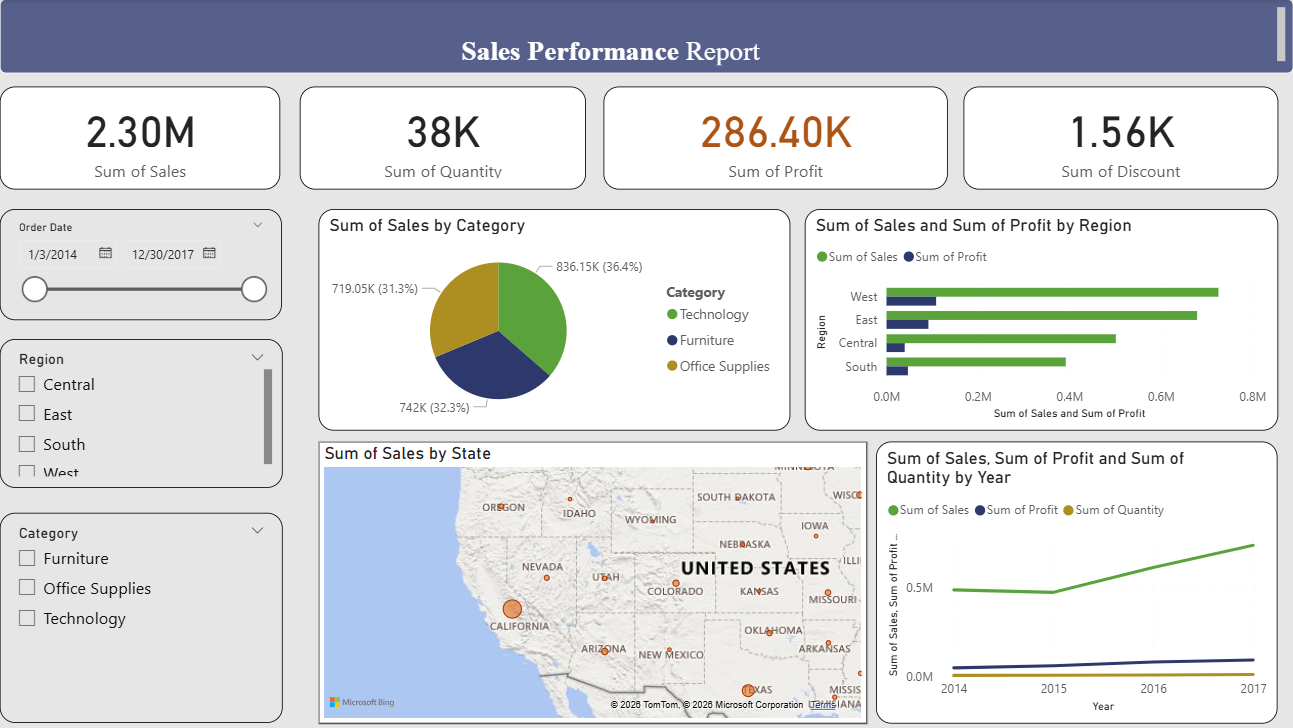

Layout of this report page (visuals, bound fields, positions):
{"tool":"powerbi","page":{"name":"Page 1","canvas":[1280,720],"ordinal":0},"visuals":[{"type":"textbox","box":[8.6,0,1265.7,72.9],"z":0},{"type":"card","fields":{"Values":["Sum(Orders.Sales)"]},"box":[8.9,85.6,274.4,101.1],"z":1000},{"type":"card","fields":{"Values":["Sum(Orders.Quantity)"]},"box":[302.2,85.6,280,101.1],"z":2000},{"type":"card","fields":{"Values":["Sum(Orders.Profit)"]},"box":[598.9,85.6,336.7,101.1],"z":3000},{"type":"card","fields":{"Values":["Sum(Orders.Discount)"]},"box":[951.1,85.6,307.8,101.1],"z":4000},{"type":"pieChart","fields":{"Category":["Orders.Category"],"Y":["Sum(Orders.Sales)"]},"box":[320,205.7,461.4,217.1],"z":5000},{"type":"clusteredBarChart","fields":{"Category":["Orders.Region"],"Y":["Sum(Orders.Sales)","Sum(Orders.Profit)"]},"box":[795.7,205.7,462.9,217.1],"z":6000},{"type":"slicer","fields":{"Values":["Orders.Order Date"]},"box":[8.6,205.7,275.7,108.6],"z":7000},{"type":"slicer","fields":{"Values":["Orders.Region"]},"box":[8.6,332.9,277.1,145.7],"z":8000},{"type":"slicer","fields":{"Values":["Orders.Category"]},"box":[8.6,502.9,277.1,205.7],"z":9000},{"type":"lineChart","fields":{"Category":["Orders.Order Date.Variation.Date Hierarchy.Year","Orders.Order Date.Variation.Date Hierarchy.Quarter","Orders.Order Date.Variation.Date Hierarchy.Month","Orders.Order Date.Variation.Date Hierarchy.Day"],"Y":["Sum(Orders.Sales)","Sum(Orders.Profit)","Sum(Orders.Quantity)"]},"box":[865.7,432.9,392.9,275.7],"z":10000},{"type":"map","fields":{"Category":["Orders.State"],"Size":["Sum(Orders.Sales)"]},"box":[320,432.9,537.1,275.7],"z":11000}]}

Visuals, with their boxes in screenshot pixels (x1, y1, x2, y2), scaled from the page's 1280x720 canvas onto the 1293x728 screenshot:
textbox: crop(9, 0, 1287, 74)
card - Sum(Orders.Sales): crop(9, 87, 286, 189)
card - Sum(Orders.Quantity): crop(305, 87, 588, 189)
card - Sum(Orders.Profit): crop(605, 87, 945, 189)
card - Sum(Orders.Discount): crop(961, 87, 1272, 189)
pieChart - Orders.Category x Sum(Orders.Sales): crop(323, 208, 789, 427)
clusteredBarChart - Orders.Region x Sum(Orders.Sales): crop(804, 208, 1271, 427)
slicer - Orders.Order Date: crop(9, 208, 287, 318)
slicer - Orders.Region: crop(9, 337, 289, 484)
slicer - Orders.Category: crop(9, 508, 289, 716)
lineChart - Orders.Order Date.Variation.Date Hierarchy.Year x Orders.Order Date.Variation.Date Hierarchy.Quarter: crop(874, 438, 1271, 716)
map - Orders.State x Sum(Orders.Sales): crop(323, 438, 866, 716)
